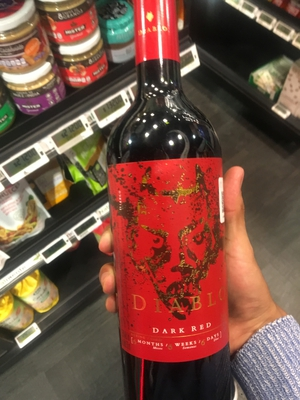diablo dark red: (103, 18, 242, 389)
